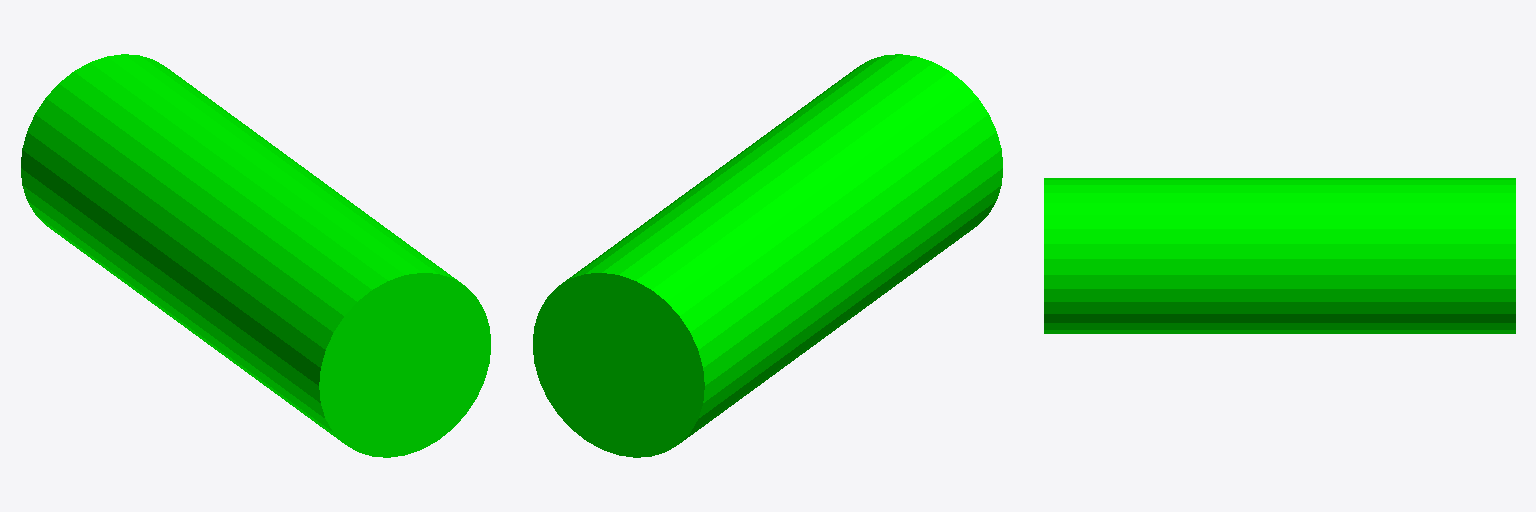
URDF robot description (cylinder):
<?xml version="1.0" ?>
<robot name="cylinder">
  <link name="baseLink">
    <contact>
      <lateral_friction value="1.0"/>
      <rolling_friction value="0.0"/>
      <contact_cfm value="0.0"/>
      <contact_erp value="1.0"/>
    </contact>
    <inertial>
      <origin rpy="0 0 0" xyz="0 0 0"/>
       <mass value="1.0"/>
       <inertia ixx="1" ixy="0" ixz="0" iyy="1" iyz="0" izz="1"/>
    </inertial>
    <visual>
      <origin rpy="0 0 0" xyz="0 0 0"/>
      <geometry>
				<mesh filename="cylinder.obj" scale="0.5 0.5 0.5"/>
      </geometry>
       <material name="green">
        <color rgba="0 1 0 1"/>
      </material>
    </visual>
    <collision>
      <origin rpy="0 0 0" xyz="0 0 0"/>
      <geometry>
	 	<mesh filename="cylinder.obj" scale="0.5 0.5 0.5"/>
      </geometry>
    </collision>
  </link>
</robot>

--- Render facts (derived) ---
The picture shows the robot from 3 angles, left to right: view 1: azimuth 30°, elevation 25°; view 2: azimuth 150°, elevation 25°; view 3: azimuth 270°, elevation 25°; orthographic projection.
Model cylinder with 1 links and 0 joints (none), rooted at baseLink, posed all joints at 0.
Links seen in each view (by area): view 1: baseLink; view 2: baseLink; view 3: baseLink.
Link boxes in pixels (x1,y1,x2,y2): baseLink: (21,54,490,457); baseLink: (533,54,1002,457); baseLink: (1044,178,1515,333).
Bounding box of the posed robot: 1 × 3 × 1 m (x, y, z).
Meshes: 1 distinct files referenced, 1 mesh visuals loaded (1 OBJ).